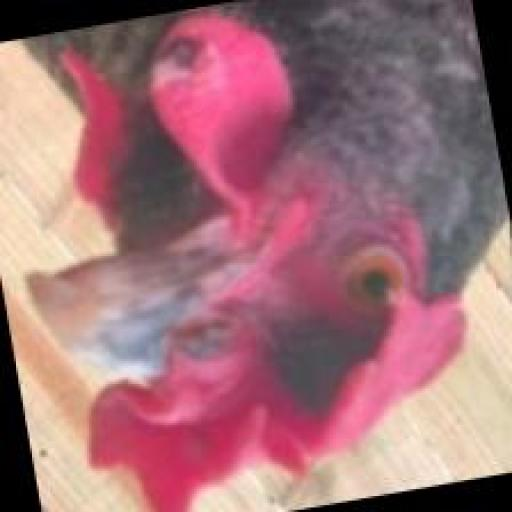disease: (155, 16, 278, 144)
